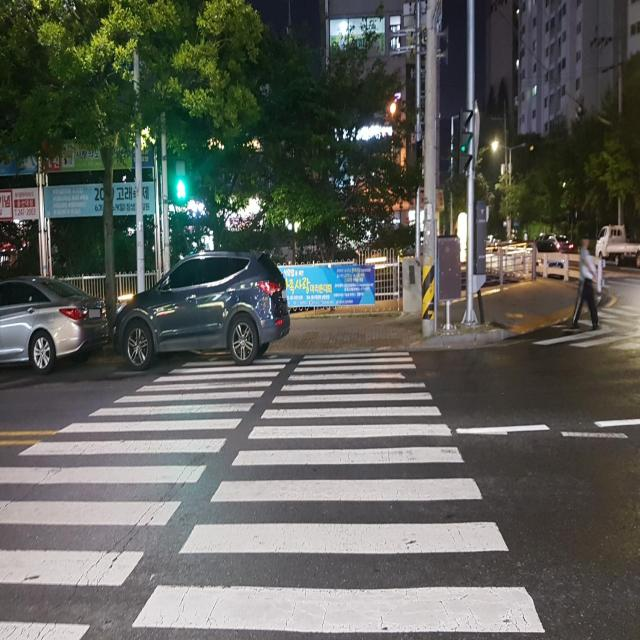초록불: (458, 105, 472, 176), (174, 160, 188, 206)
횡단보도: (0, 350, 547, 640), (533, 302, 640, 355)
